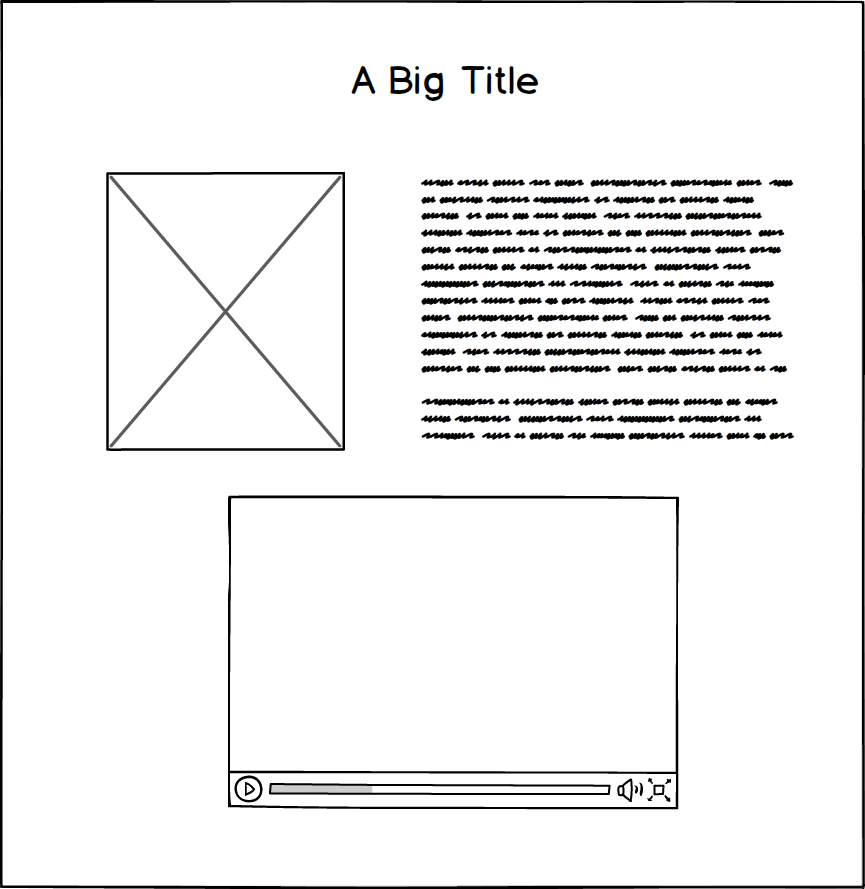h1: (341, 59, 547, 105)
image: (101, 166, 351, 455)
p: (409, 169, 817, 451)
video: (218, 489, 686, 817)
